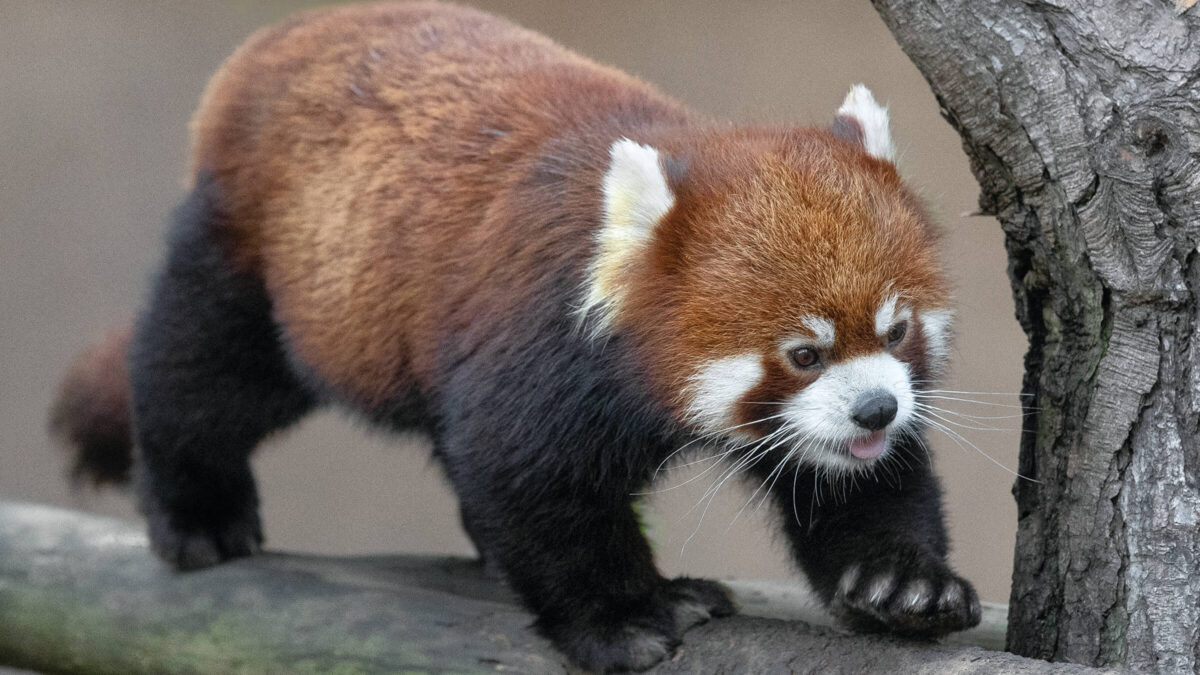Red panda: (589, 79, 965, 471)
